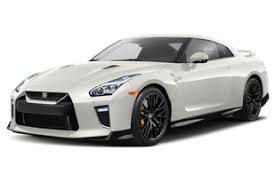Nissan: (11, 36, 250, 143)
